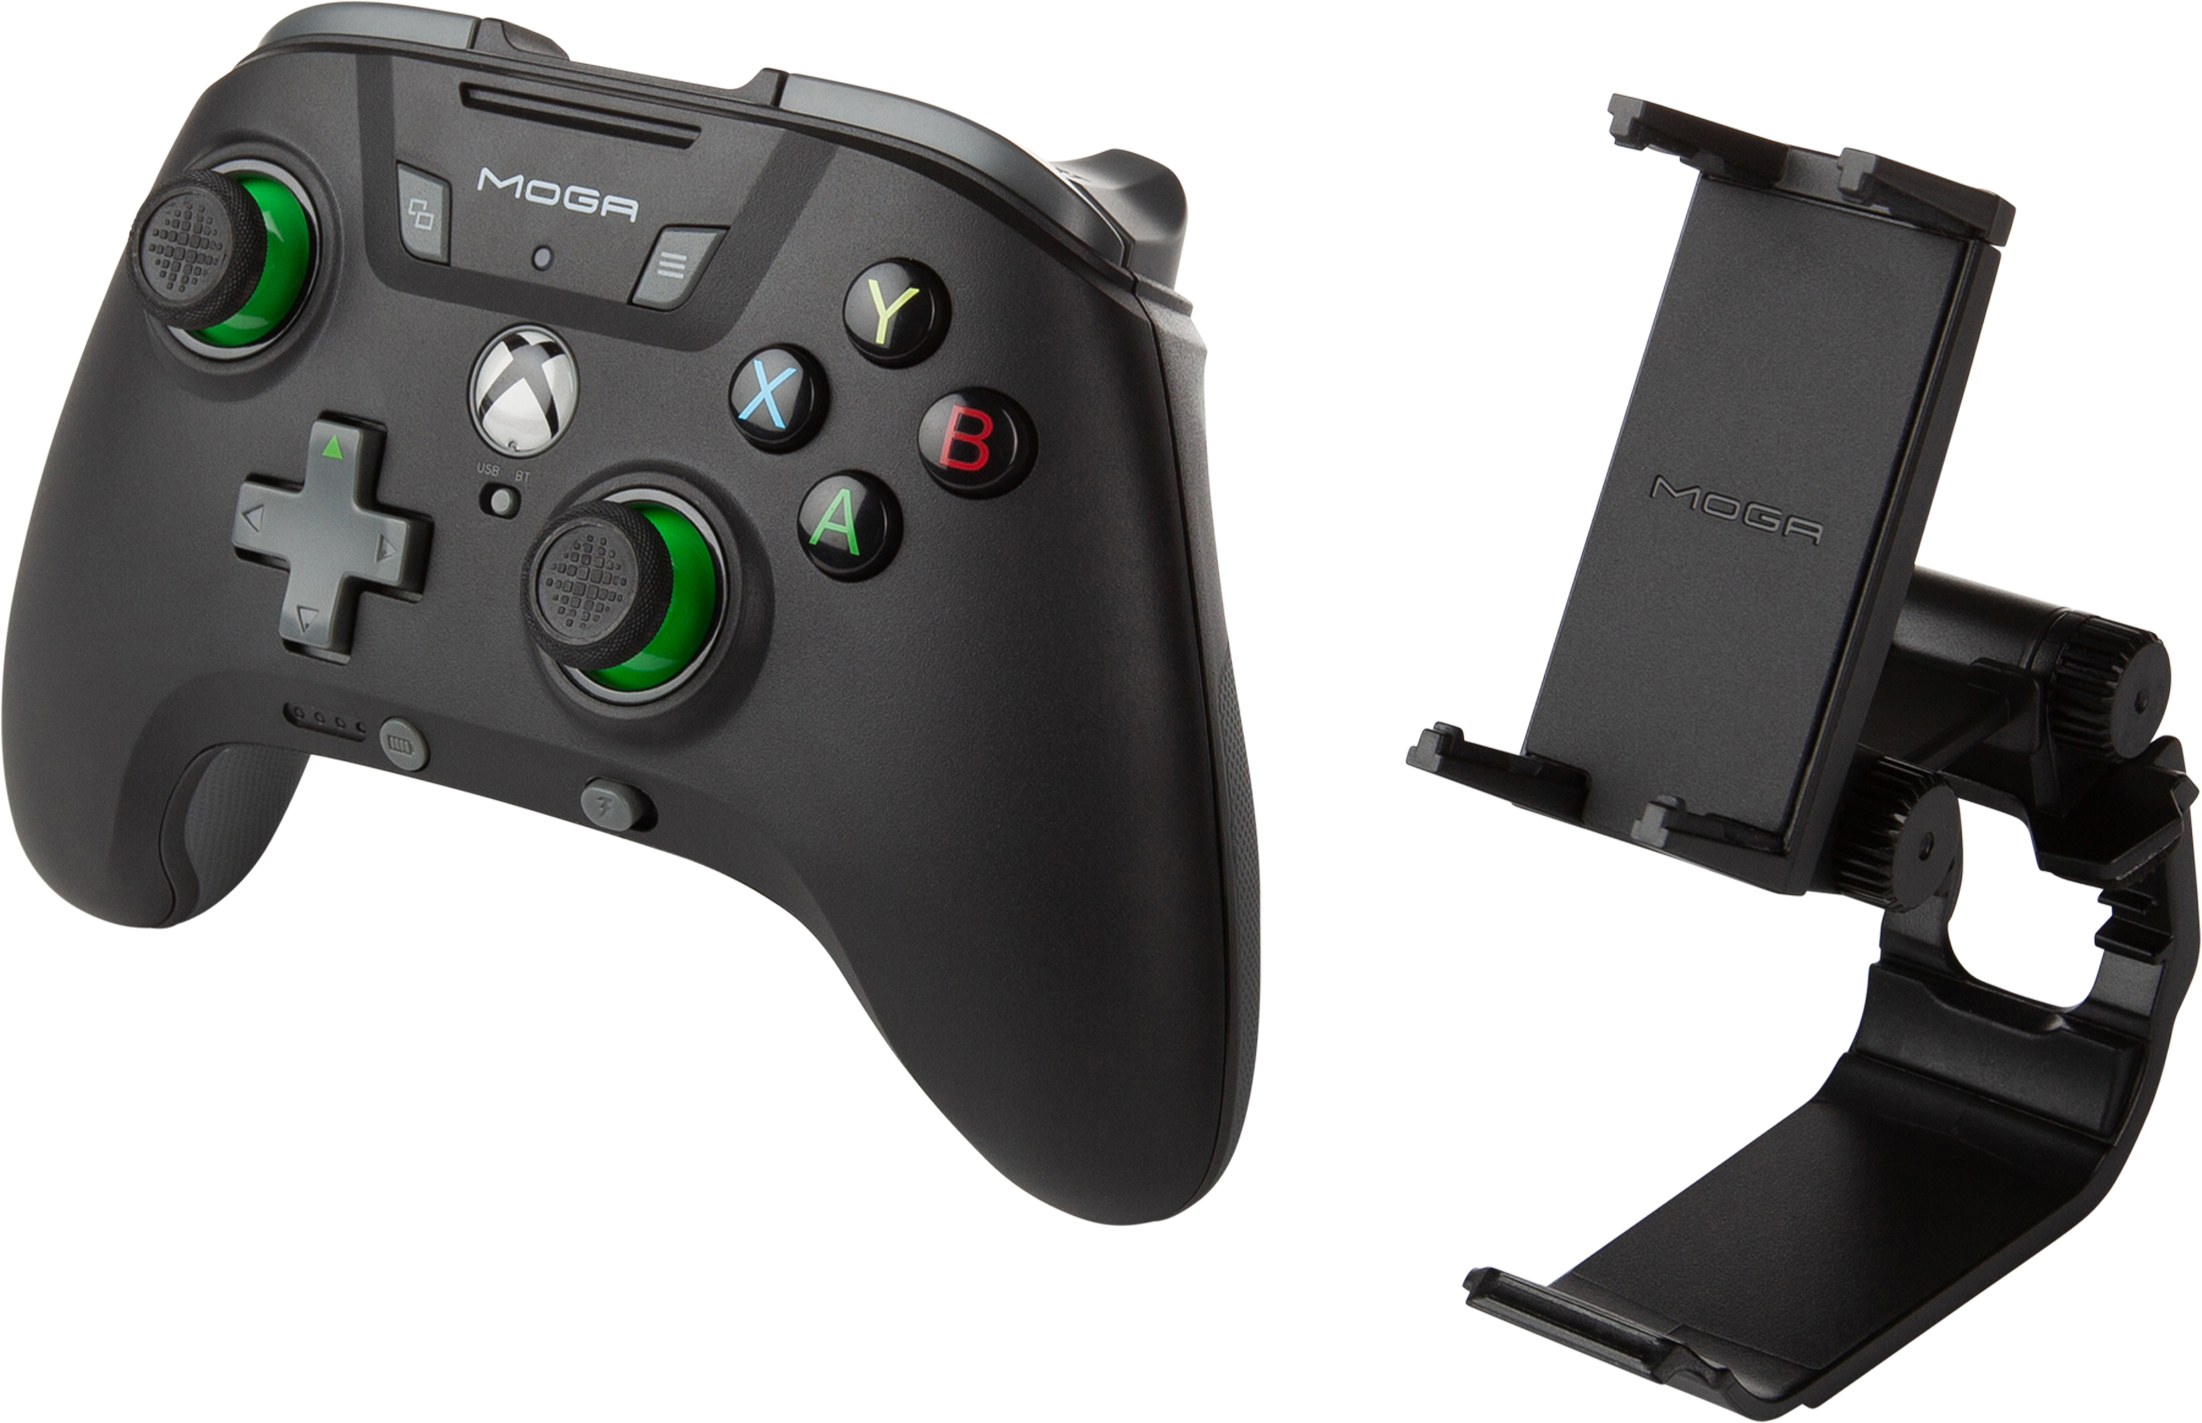controller: (6, 3, 1265, 1227)
